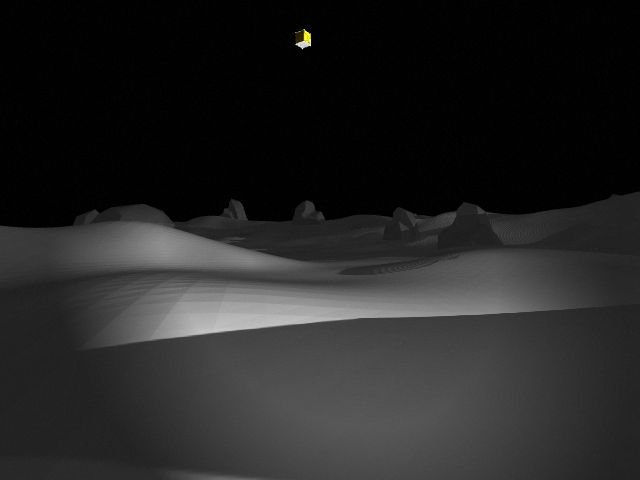cubesat: (294, 26, 312, 51)
